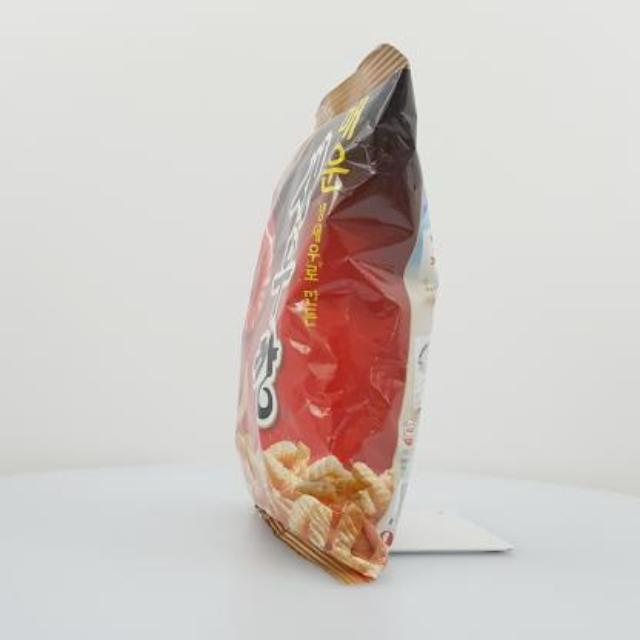snack_bag: (220, 31, 460, 606)
